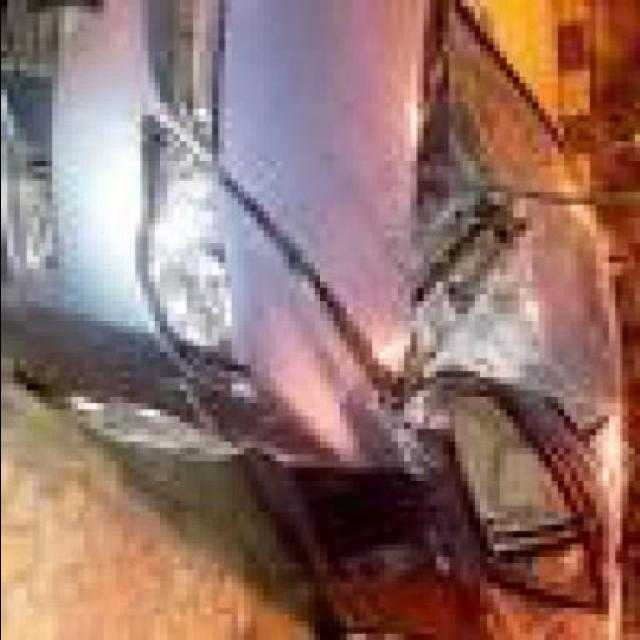Front-Windscreen-Damage: (403, 32, 602, 416)
